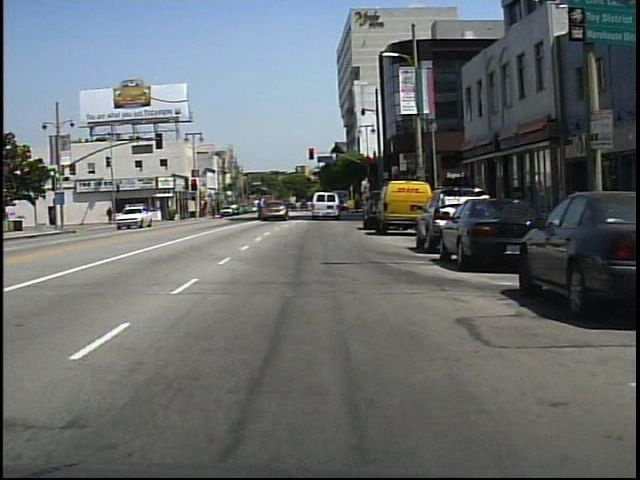person: (253, 193, 270, 222), (106, 205, 114, 225)
